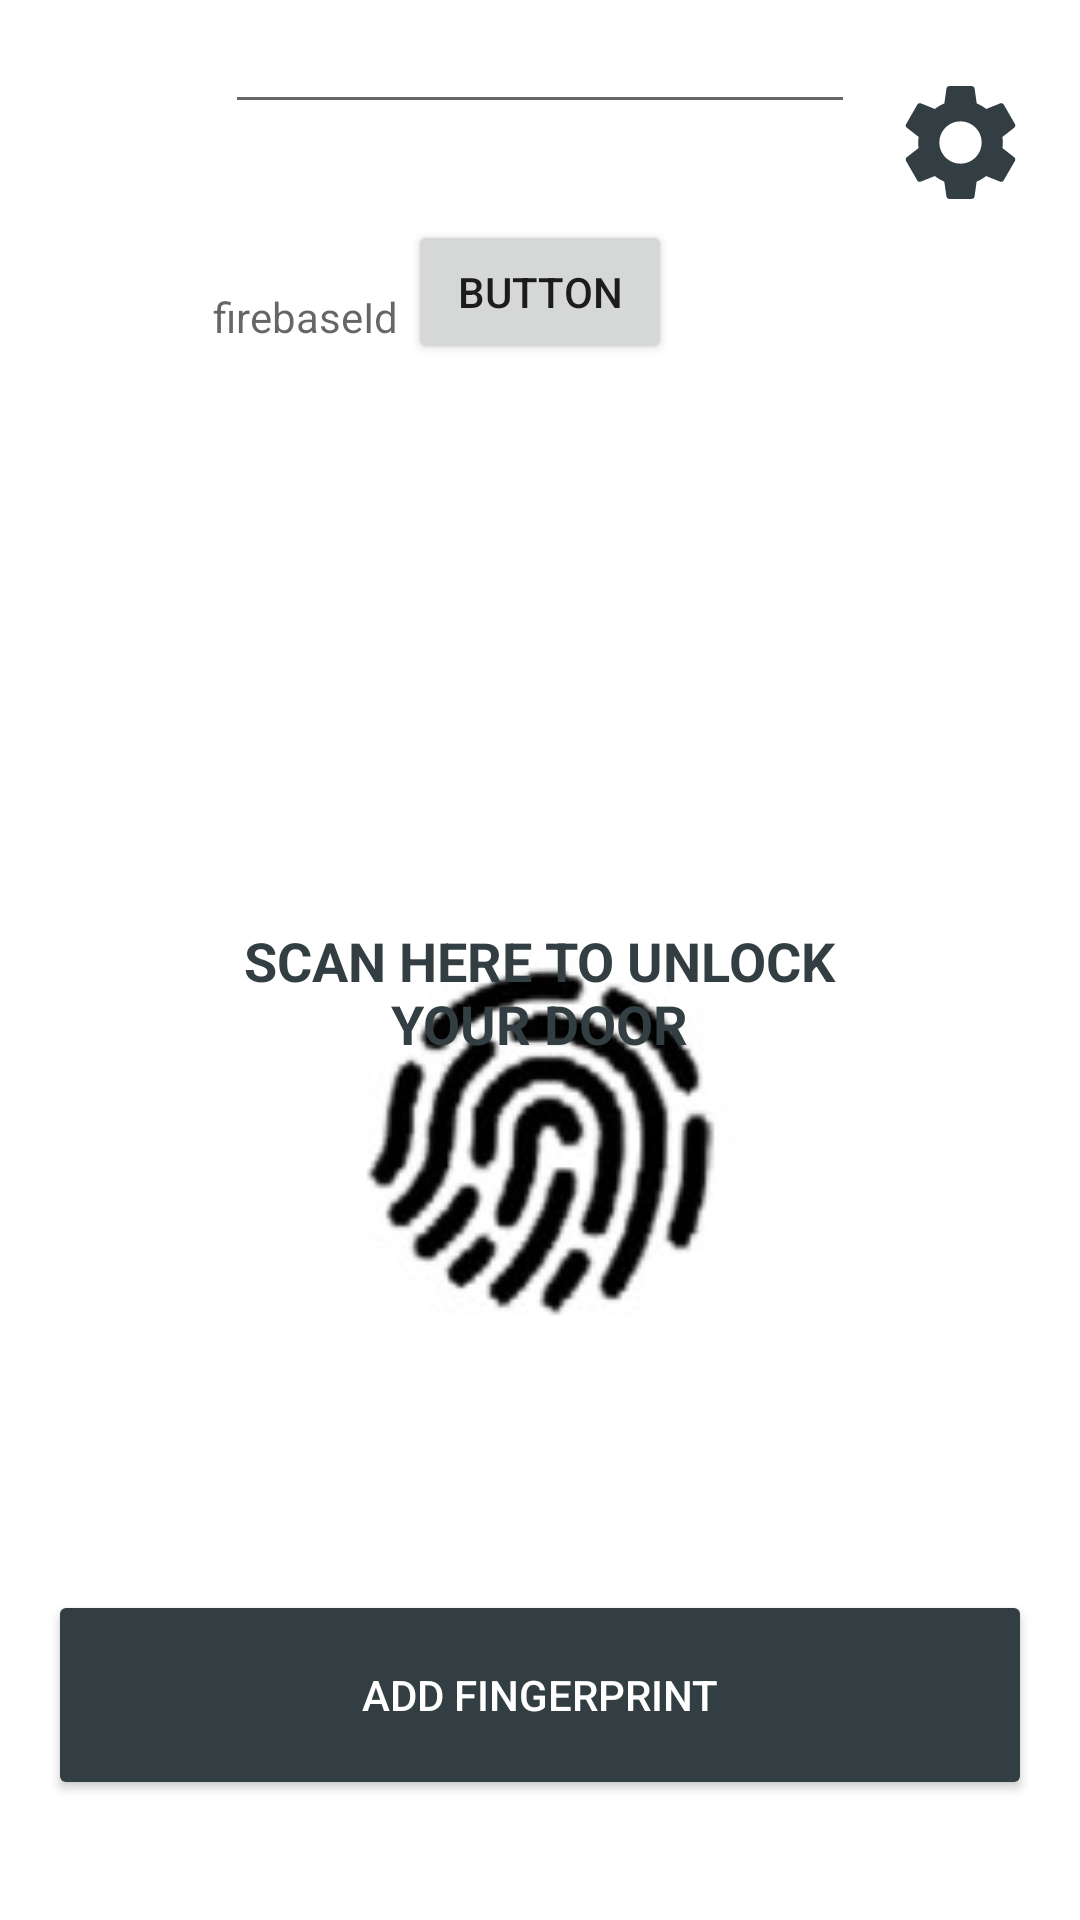

Icons on this 1080px×1920px Android screen, each with the point to tap as [x,y]:
settings: [960,142]
